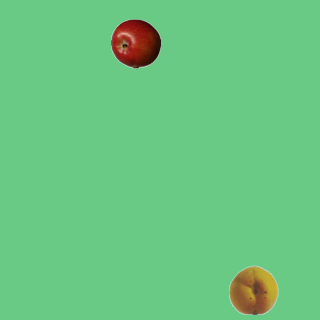Apple Braeburn: (110, 18, 160, 68)
Peach 2: (228, 264, 278, 314)
